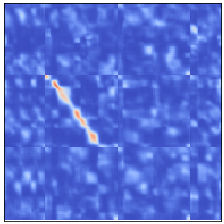action_path: (42, 75, 117, 149)
